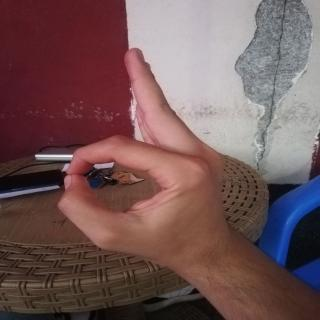Space: (60, 45, 239, 305)
